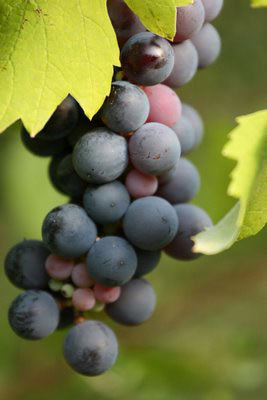Black grapes: (21, 7, 215, 370)
